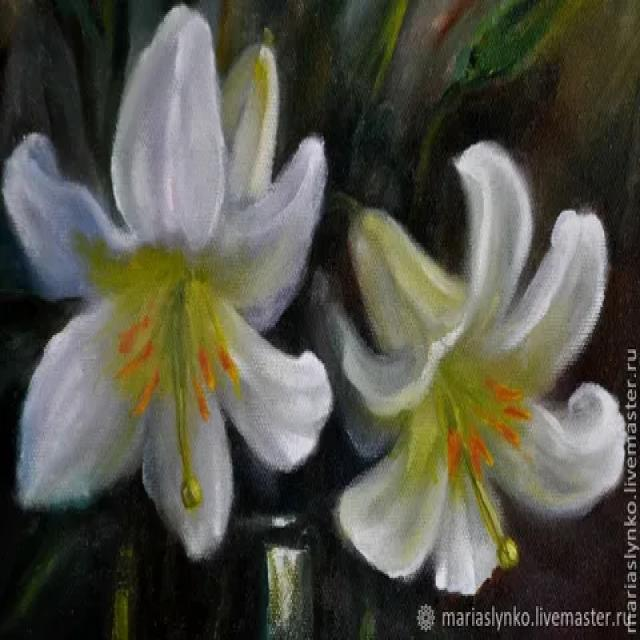lily: (332, 137, 633, 604)
